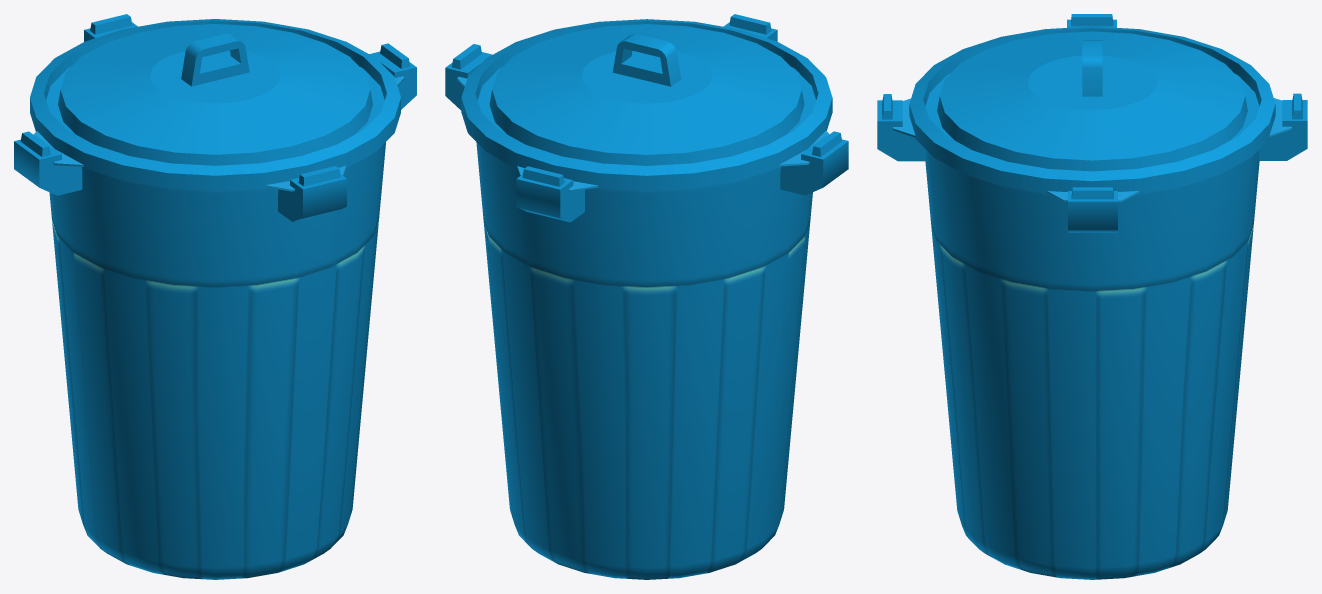
The model's file is PolyBaket.fbx.
The picture shows the model from 3 angles, left to right: view 1: azimuth 30°, elevation 25°; view 2: azimuth 150°, elevation 25°; view 3: azimuth 270°, elevation 25°; orthographic projection.
Visible parts, largest first — view 1: Empty_Mesh; view 2: Empty_Mesh; view 3: Empty_Mesh.
Part boxes in pixels (<box>): Empty_Mesh: <box>14,14,416,579</box>; Empty_Mesh: <box>445,14,848,579</box>; Empty_Mesh: <box>877,14,1307,579</box>.
Bounding box in the file's own units: 51.61 × 63.38 × 51.61.
